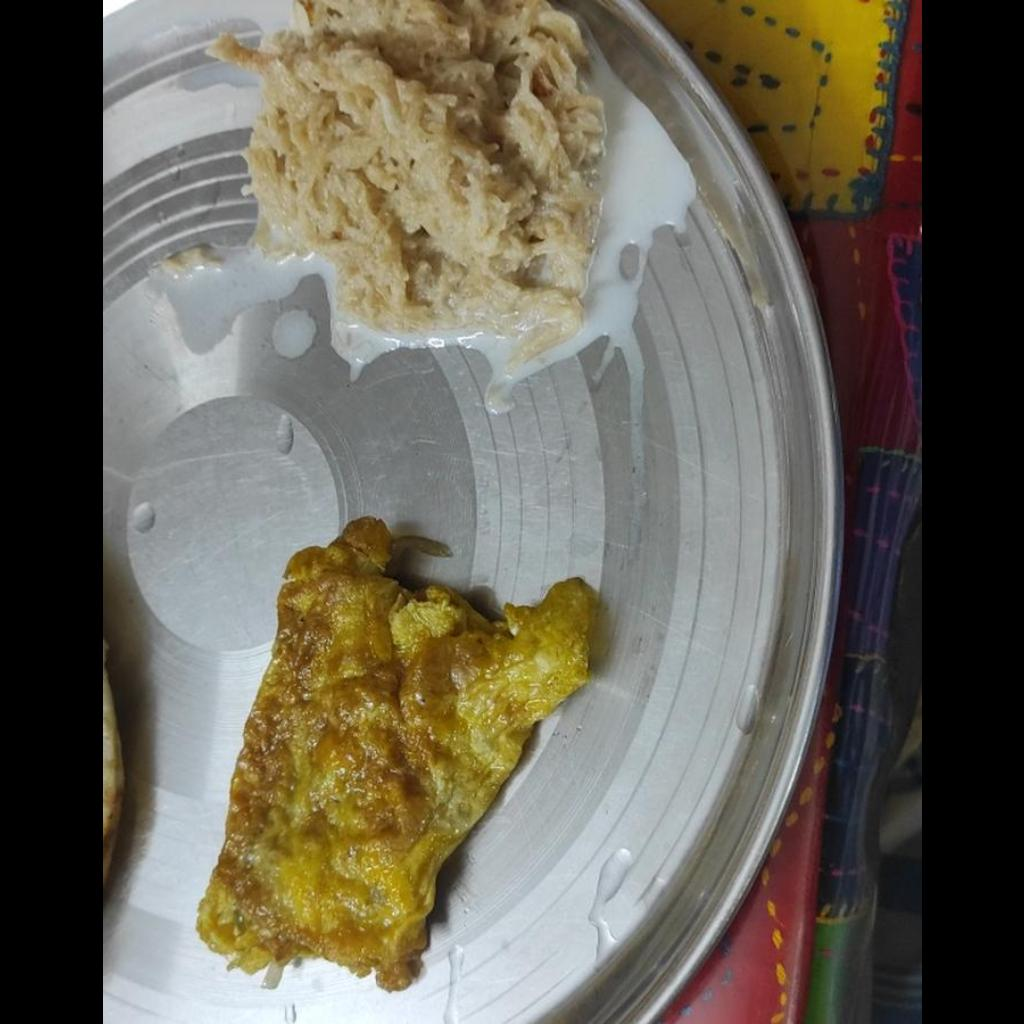egg-poached: (192, 519, 589, 996)
payesh: (136, 1, 608, 361)
